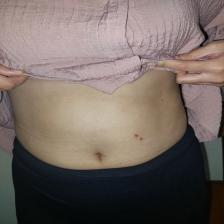DA: (127, 125, 150, 150), (153, 85, 172, 108)
